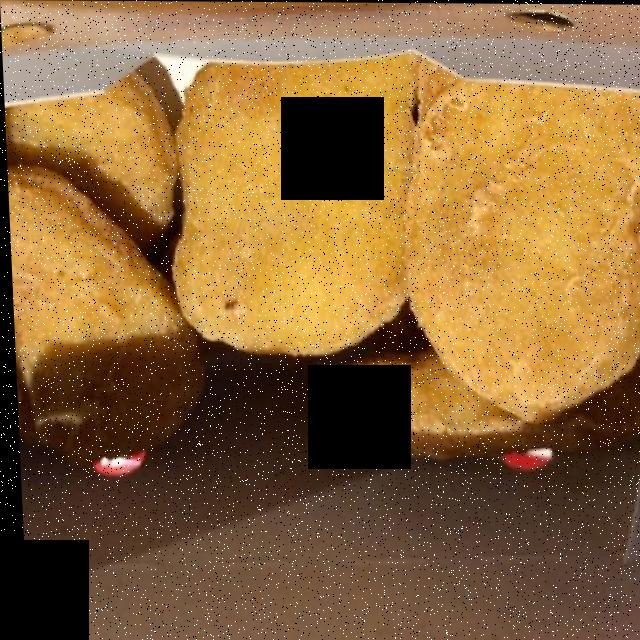chicken-nuggets: (17, 64, 640, 464)
